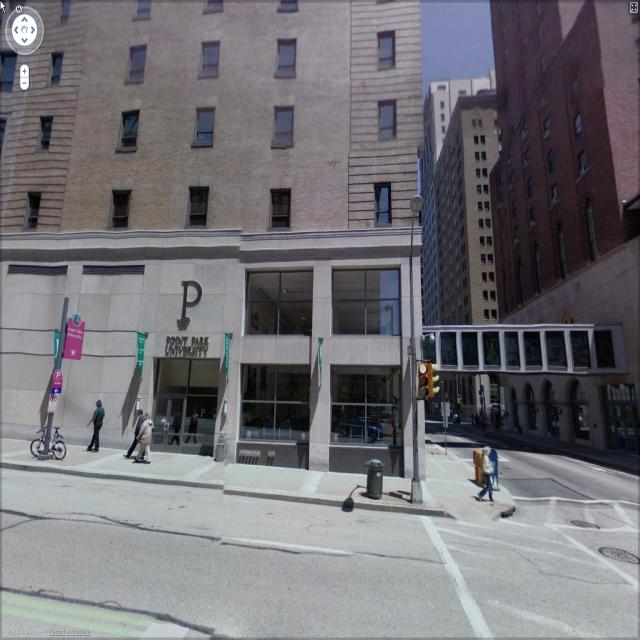window: (331, 368, 402, 450), (239, 369, 315, 444), (326, 264, 402, 335), (240, 269, 316, 336), (110, 108, 145, 168), (188, 100, 218, 158), (266, 184, 294, 240), (183, 185, 213, 234), (104, 190, 138, 232), (123, 42, 153, 88), (32, 112, 58, 162), (377, 96, 403, 146), (369, 184, 397, 228), (272, 42, 302, 80), (270, 109, 295, 153), (20, 192, 46, 234), (375, 30, 399, 71), (197, 44, 221, 74), (46, 54, 64, 88), (574, 150, 590, 178), (548, 147, 556, 175), (522, 149, 532, 170), (572, 116, 581, 138), (526, 173, 532, 198), (472, 167, 482, 179), (472, 133, 480, 147), (473, 150, 481, 164), (482, 132, 488, 144), (483, 150, 489, 160), (483, 169, 488, 179)
